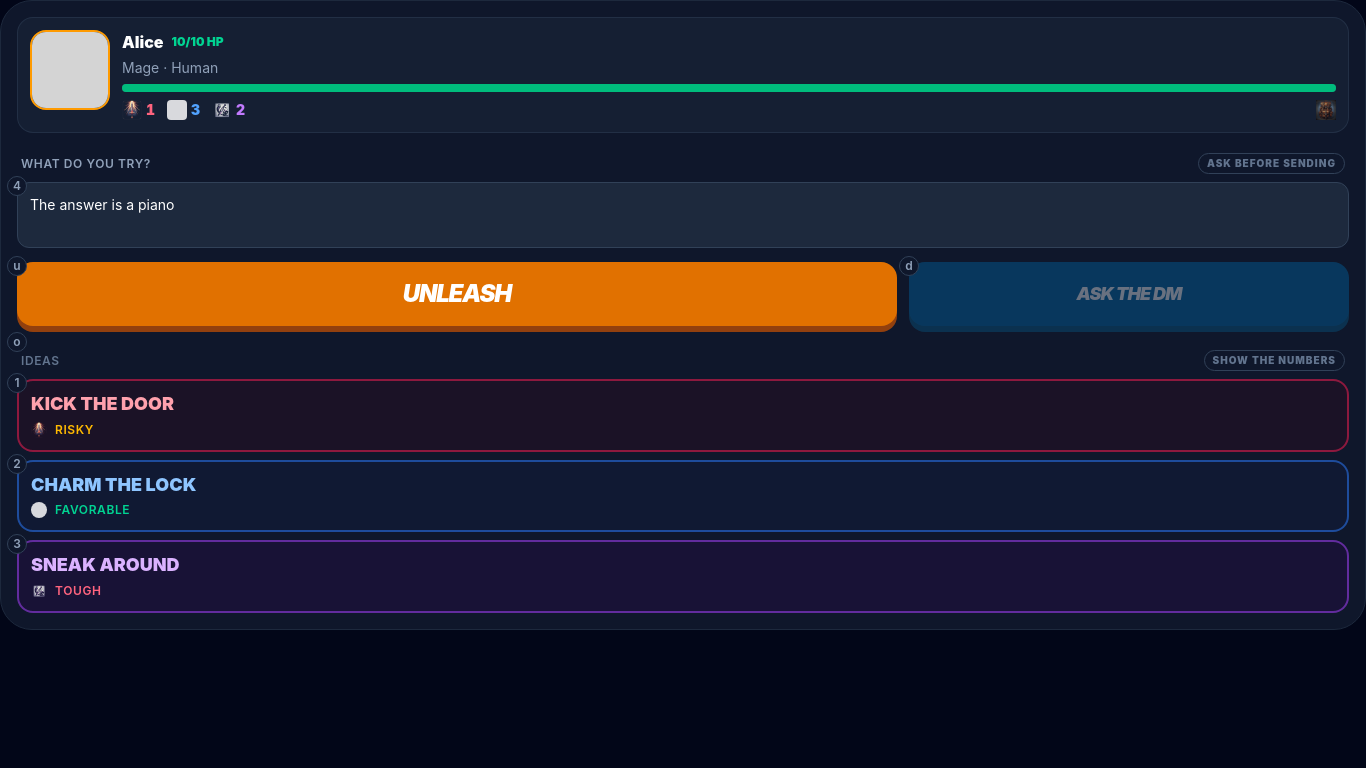
ActionDock clarification › shows a retryable explanation instead of a failed preview, keeping the draft
Click the button "UNLEASH" at (457, 294), box x1=17 y1=262 x2=897 y2=326
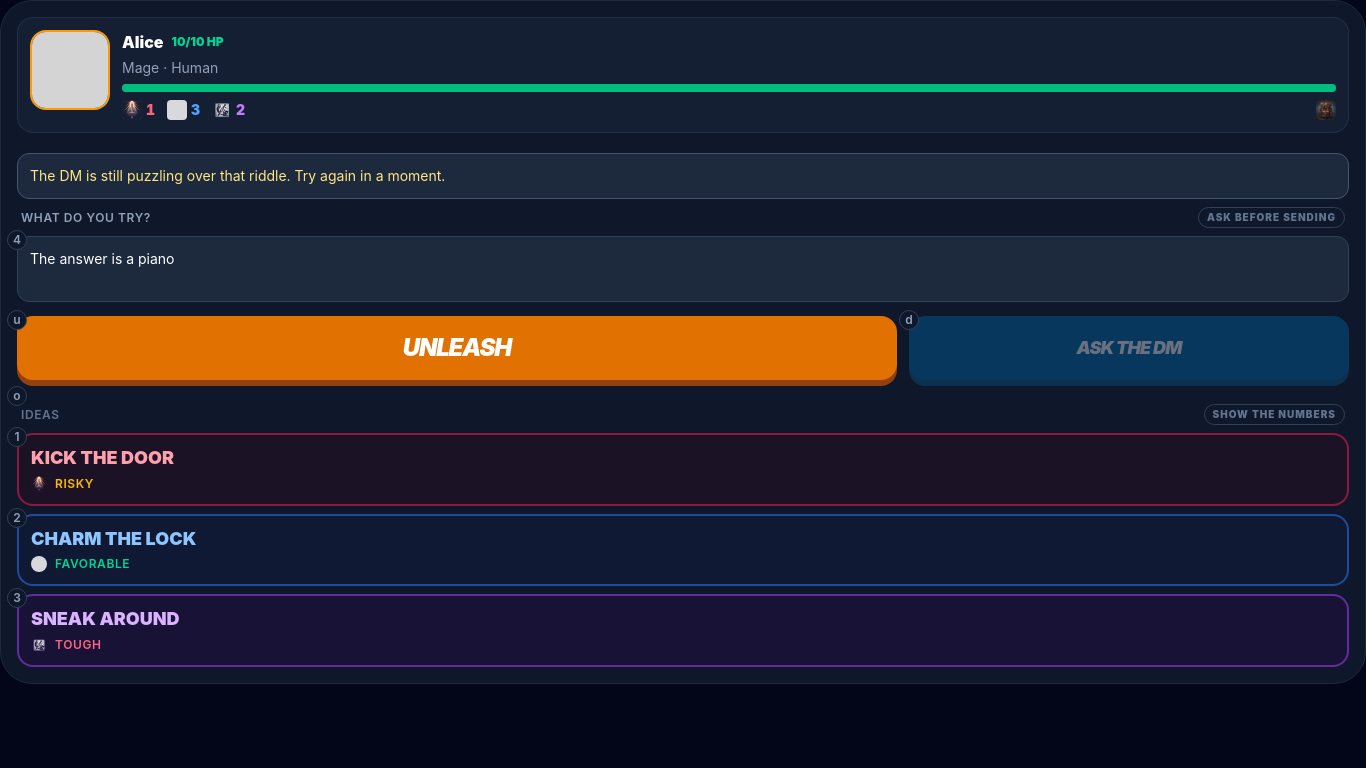
Expected: the text box labelled "What do you try?" holds "The answer is a piano", x1=17 y1=236 x2=1349 y2=302
Result: the text "The DM is still puzzling over that riddle. Try again in a moment." is shown at x1=17 y1=153 x2=1349 y2=199
